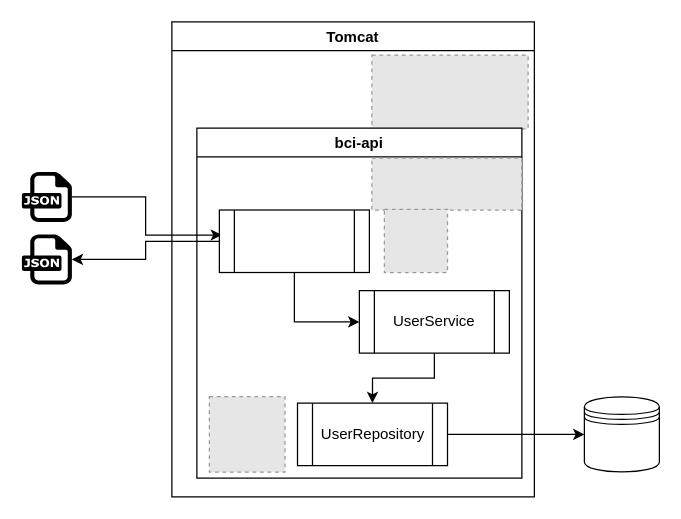
This 681x519 diagram has some shape labels left out. Grey dashed boxes stand in for pictures. Here are the shapes that lost their labels. From the top down, the centre of each, then its label:
(x=293, y=240): UserController
(x=621, y=434): H2 bcidb
